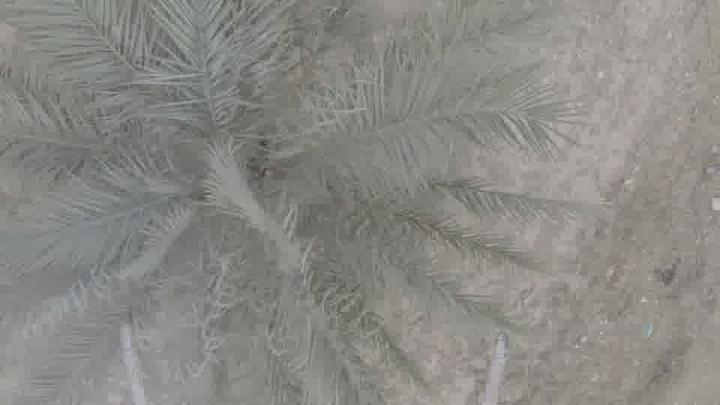Date-Palm-Crown: (62, 36, 378, 356)
